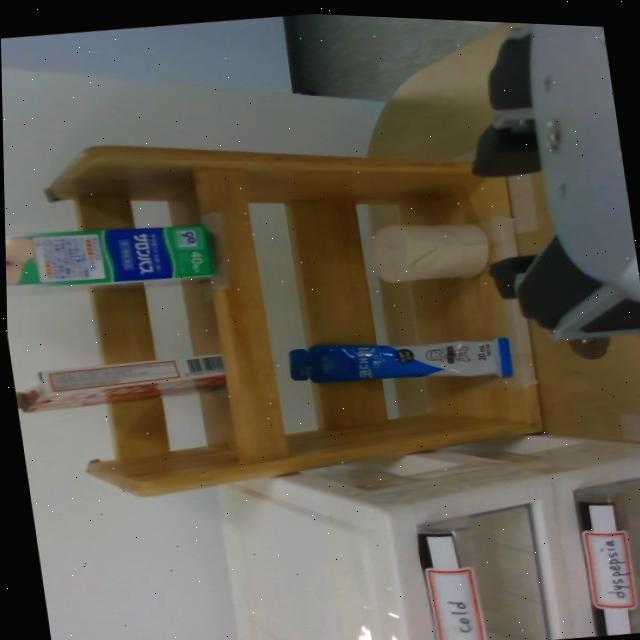bandage: (363, 212, 492, 291)
codaewon_syrup: (283, 317, 513, 402)
sore_patch: (5, 209, 219, 298)
tylenol: (12, 343, 229, 421)
